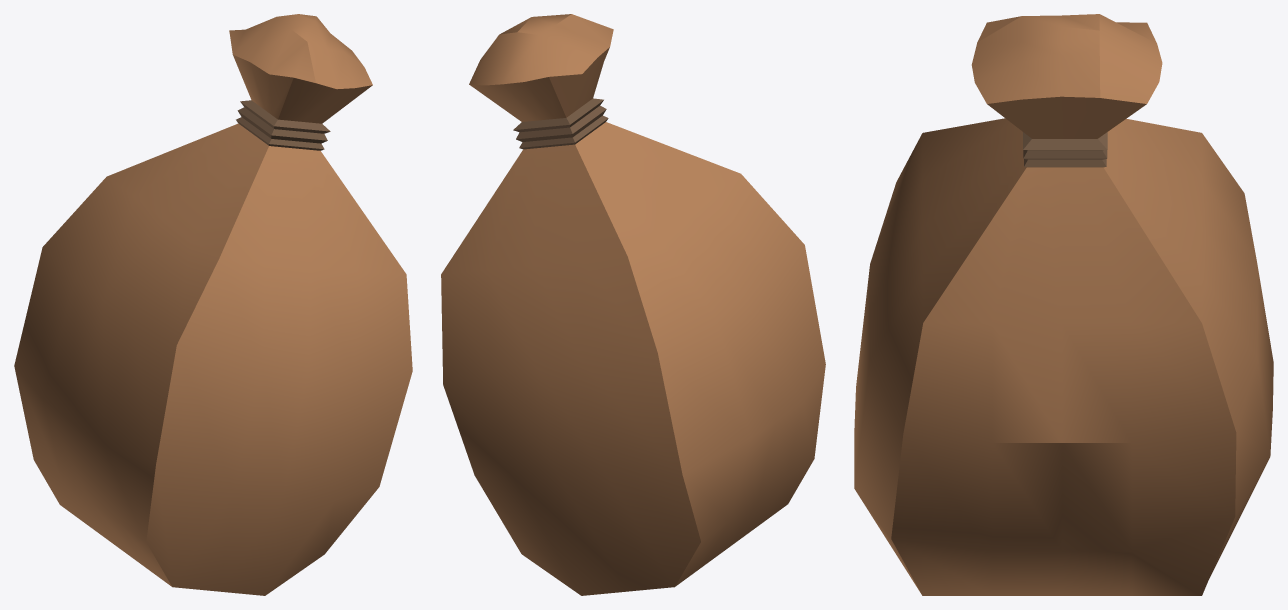
File: Sacco 2.fbx
3 renders of one model, left to right at view 1: azimuth 30°, elevation 25°; view 2: azimuth 150°, elevation 25°; view 3: azimuth 270°, elevation 25°, orthographic. The views are drawn at different scales.
Parts seen in each view (by area): view 1: Cube.017; view 2: Cube.017; view 3: Cube.017.
Boxes of the visible parts, bbox=[...] form: Cube.017: bbox=[14, 14, 412, 595]; Cube.017: bbox=[441, 14, 825, 595]; Cube.017: bbox=[854, 14, 1273, 595].
Size of the model in its own units: 143 by 240 by 144.
